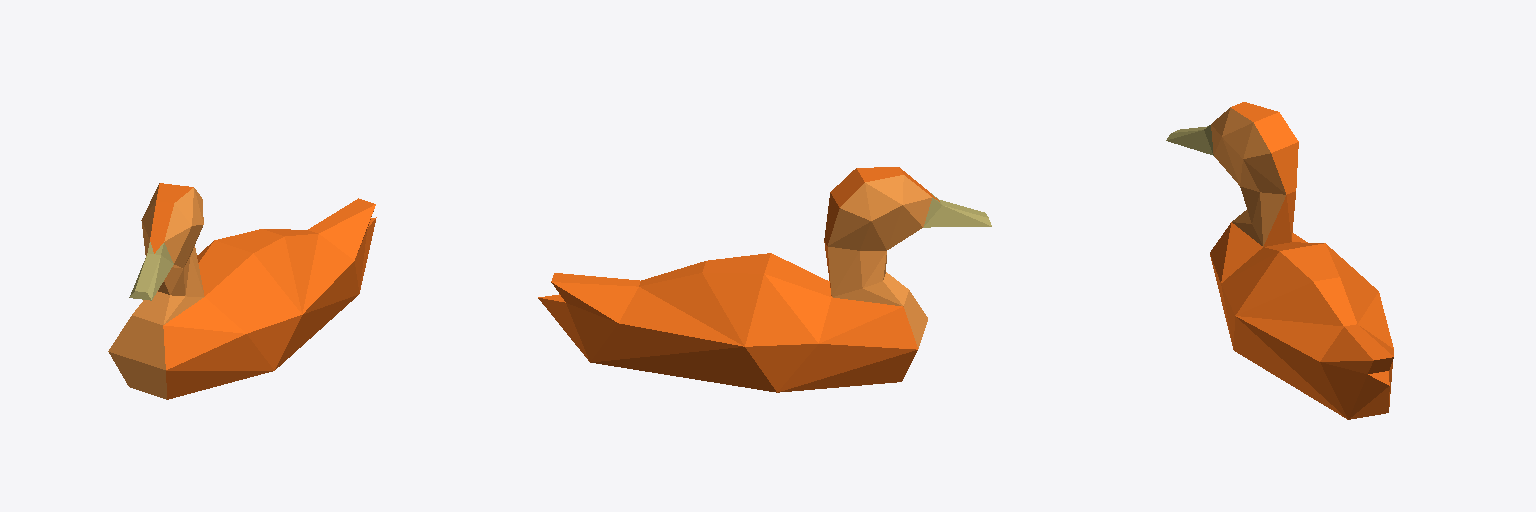
File: femaleduckhover.obj
The picture shows the model from 3 angles: view 1: azimuth 30°, elevation 25°; view 2: azimuth 150°, elevation 25°; view 3: azimuth 270°, elevation 25°; orthographic projection.
Parts seen in each view (by area): view 1: Plane; view 2: Plane; view 3: Plane.
Part boxes in pixels (x1,y1,x2,y2): Plane: (108, 183, 376, 399); Plane: (538, 167, 991, 392); Plane: (1166, 102, 1393, 419).
Size of the model in its own units: 7.46 by 3.93 by 4.21.